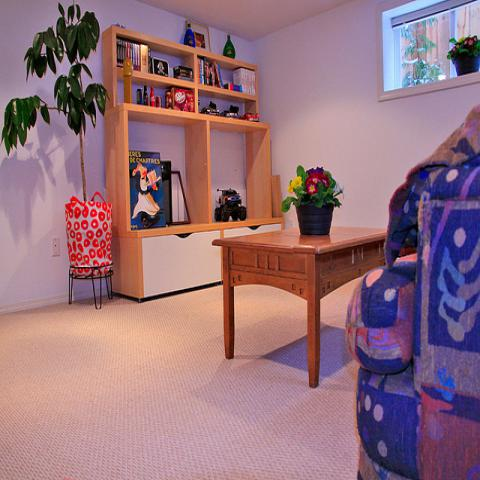car: (239, 112, 260, 122)
truck: (214, 187, 247, 222)
